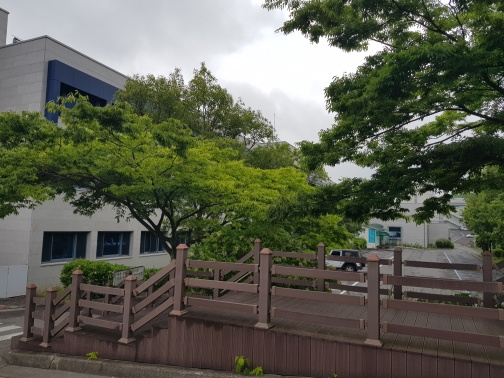College of Social Sciences: (4, 24, 174, 294)
